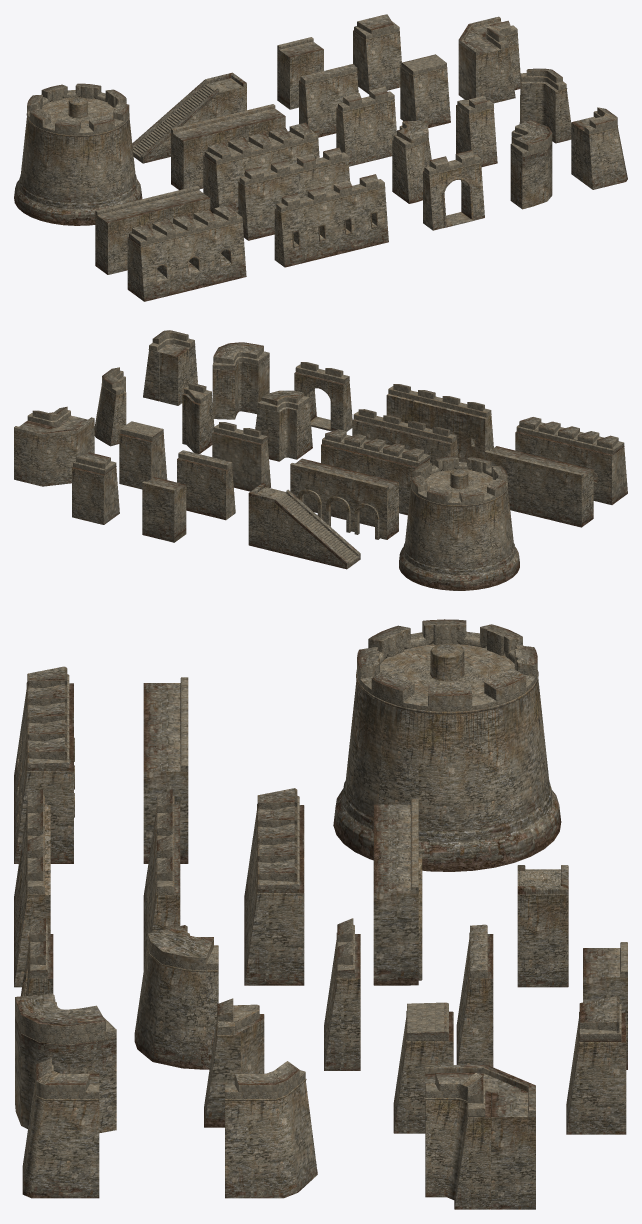
The model's file is 城墙集合26.fbx.
3 renders of one model, top to bottom at view 1: azimuth 30°, elevation 25°; view 2: azimuth 150°, elevation 25°; view 3: azimuth 270°, elevation 25°, orthographic. The views are drawn at different scales.
Visible parts, largest first — view 1: modular_fort_01_tower_round, modular_fort_01_wall_thick_straight_02, modular_fort_01_wall_thin_straight_02, modular_fort_01_wall_thin_straight_01, modular_fort_01_wall_thick_straight_01, modular_fort_01_wall_walkway_straight_02, modular_fort_01_wall_walkway_straight_01, modular_fort_01_wall_stairs_straight_01, modular_fort_01_wall_thin_straight_04, modular_fort_01_wall_thin_gate_01, modular_fort_01_wall_thick_corner_02, modular_fort_01_wall_thick_end_02 (+10 smaller); view 2: modular_fort_01_tower_round, modular_fort_01_wall_walkway_straight_01, modular_fort_01_wall_walkway_straight_02, modular_fort_01_wall_stairs_straight_01, modular_fort_01_wall_thick_straight_02, modular_fort_01_wall_walkway_corner_01, modular_fort_01_wall_thin_straight_02, modular_fort_01_wall_thick_straight_01, modular_fort_01_wall_thick_corner_02, modular_fort_01_wall_thick_corner_01, modular_fort_01_wall_thin_straight_03, modular_fort_01_wall_thick_end_02 (+10 smaller); view 3: modular_fort_01_tower_round, modular_fort_01_wall_thick_straight_01, modular_fort_01_wall_thin_corner_03, modular_fort_01_wall_thick_corner_01, modular_fort_01_wall_thin_corner_02, modular_fort_01_wall_thick_straight_02, modular_fort_01_wall_walkway_straight_01, modular_fort_01_wall_thick_corner_02, modular_fort_01_wall_thin_corner_01, modular_fort_01_wall_thick_end_02, modular_fort_01_wall_walkway_corner_01, modular_fort_01_wall_walkway_straight_02 (+9 smaller).
Boxes of the visible parts, x1=… form: modular_fort_01_tower_round: x1=14, y1=83, x2=142, y2=225; modular_fort_01_wall_thick_straight_02: x1=127, y1=204, x2=246, y2=301; modular_fort_01_wall_thin_straight_02: x1=274, y1=174, x2=388, y2=267; modular_fort_01_wall_thin_straight_01: x1=238, y1=147, x2=349, y2=240; modular_fort_01_wall_thick_straight_01: x1=203, y1=122, x2=319, y2=213; modular_fort_01_wall_walkway_straight_02: x1=95, y1=185, x2=210, y2=274; modular_fort_01_wall_walkway_straight_01: x1=171, y1=104, x2=285, y2=189; modular_fort_01_wall_stairs_straight_01: x1=132, y1=72, x2=246, y2=163; modular_fort_01_wall_thin_straight_04: x1=336, y1=86, x2=396, y2=166; modular_fort_01_wall_thin_gate_01: x1=423, y1=150, x2=484, y2=230; modular_fort_01_wall_thick_corner_02: x1=510, y1=120, x2=552, y2=209; modular_fort_01_wall_thick_end_02: x1=353, y1=14, x2=401, y2=94; modular_fort_01_tower_round: x1=399, y1=456, x2=519, y2=590; modular_fort_01_wall_walkway_straight_01: x1=290, y1=458, x2=398, y2=539; modular_fort_01_wall_walkway_straight_02: x1=484, y1=446, x2=593, y2=527; modular_fort_01_wall_stairs_straight_01: x1=248, y1=483, x2=360, y2=569; modular_fort_01_wall_thick_straight_02: x1=515, y1=417, x2=627, y2=504; modular_fort_01_wall_walkway_corner_01: x1=14, y1=416, x2=94, y2=486; modular_fort_01_wall_thin_straight_02: x1=386, y1=384, x2=493, y2=462; modular_fort_01_wall_thick_straight_01: x1=321, y1=429, x2=430, y2=515; modular_fort_01_wall_thick_corner_02: x1=212, y1=342, x2=269, y2=419; modular_fort_01_wall_thick_corner_01: x1=255, y1=390, x2=312, y2=461; modular_fort_01_wall_thin_straight_03: x1=177, y1=450, x2=235, y2=520; modular_fort_01_wall_thick_end_02: x1=72, y1=452, x2=119, y2=524; modular_fort_01_tower_round: x1=333, y1=619, x2=561, y2=871; modular_fort_01_wall_thick_straight_01: x1=244, y1=788, x2=304, y2=985; modular_fort_01_wall_thin_corner_03: x1=225, y1=1061, x2=317, y2=1198; modular_fort_01_wall_thick_corner_01: x1=134, y1=925, x2=218, y2=1069; modular_fort_01_wall_thin_corner_02: x1=22, y1=1058, x2=99, y2=1198; modular_fort_01_wall_thick_straight_02: x1=14, y1=666, x2=74, y2=863; modular_fort_01_wall_walkway_straight_01: x1=373, y1=799, x2=422, y2=985; modular_fort_01_wall_thick_corner_02: x1=15, y1=993, x2=116, y2=1133; modular_fort_01_wall_thin_corner_01: x1=425, y1=1072, x2=490, y2=1209; modular_fort_01_wall_thick_end_02: x1=566, y1=996, x2=626, y2=1134; modular_fort_01_wall_walkway_corner_01: x1=425, y1=1065, x2=535, y2=1209; modular_fort_01_wall_walkway_straight_02: x1=143, y1=677, x2=188, y2=863.
Size of the model in its own units: 7138 by 1367 by 4267.
Materials: 3 (3 with a texture image).
